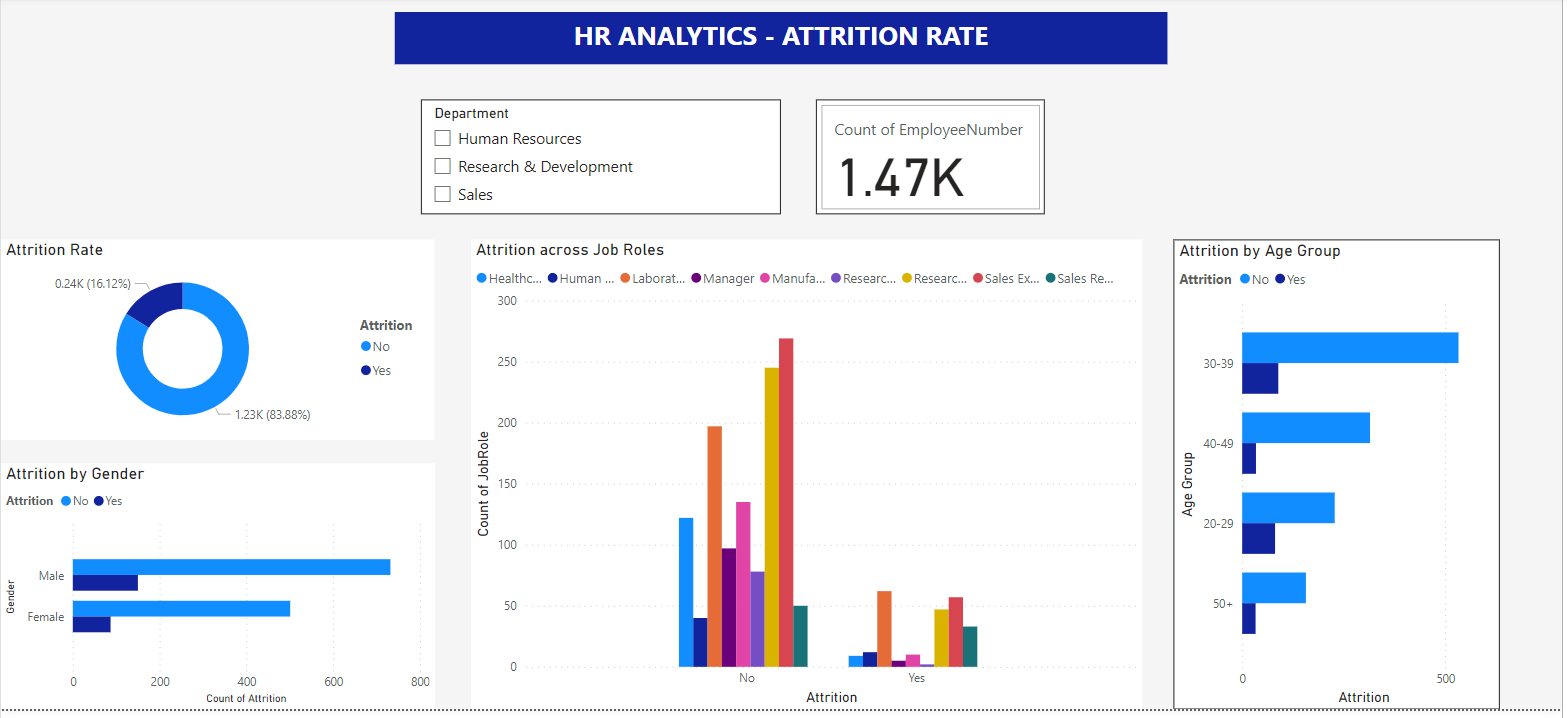

Layout of this report page (visuals, bound fields, positions):
{"tool":"powerbi","page":{"name":"Page 1","canvas":[1600,730],"ordinal":0},"visuals":[{"type":"cardVisual","fields":{"Data":["CountNonNull(WA_Fn-UseC_-HR-Employee-Attrition.EmployeeNumber)"]},"box":[835.4,105.1,234.5,117.9],"z":0},{"type":"slicer","fields":{"Values":["WA_Fn-UseC_-HR-Employee-Attrition.Department"]},"box":[430.5,105.1,369,117.9],"z":1000},{"type":"clusteredBarChart","title":"Attrition by Age Group","fields":{"Category":["Emp_Attrition_Table.Age Group"],"Series":["Emp_Attrition_Table.Attrition"],"Y":["CountNonNull(Emp_Attrition_Table.Attrition)"]},"box":[1201.8,248.6,334.4,481.7],"z":2000},{"type":"donutChart","title":"Attrition Rate","fields":{"Y":["CountNonNull(Emp_Attrition_Table.Attrition)"],"Category":["Emp_Attrition_Table.Attrition"]},"box":[0,248.1,443.7,205.4],"z":3000},{"type":"clusteredBarChart","title":"Attrition by Gender","fields":{"Category":["Emp_Attrition_Table.Gender"],"Y":["CountNonNull(Emp_Attrition_Table.Attrition)"],"Series":["Emp_Attrition_Table.Attrition"]},"box":[0,477.9,444.6,252.4],"z":4000},{"type":"clusteredColumnChart","title":"Attrition across Job Roles","fields":{"Category":["Emp_Attrition_Table.Attrition"],"Y":["CountNonNull(Emp_Attrition_Table.JobRole)"],"Series":["Emp_Attrition_Table.JobRole"]},"box":[481.7,248.6,688,481.7],"z":5000},{"type":"textbox","box":[403.6,15.4,791.8,53.8],"z":6000}]}

Visuals, with their boxes in screenshot pixels (x1, y1, x2, y2), scaled from the page's 1600x730 canvas onto the 1567x718 screenshot:
cardVisual - CountNonNull(WA_Fn-UseC_-HR-Employee-Attrition.EmployeeNumber): l=818, t=103, r=1048, b=219
slicer - WA_Fn-UseC_-HR-Employee-Attrition.Department: l=422, t=103, r=783, b=219
"Attrition by Age Group" clusteredBarChart: l=1177, t=245, r=1505, b=717
"Attrition Rate" donutChart: l=0, t=244, r=435, b=446
"Attrition by Gender" clusteredBarChart: l=0, t=470, r=435, b=717
"Attrition across Job Roles" clusteredColumnChart: l=472, t=245, r=1146, b=717
textbox: l=395, t=15, r=1171, b=68
